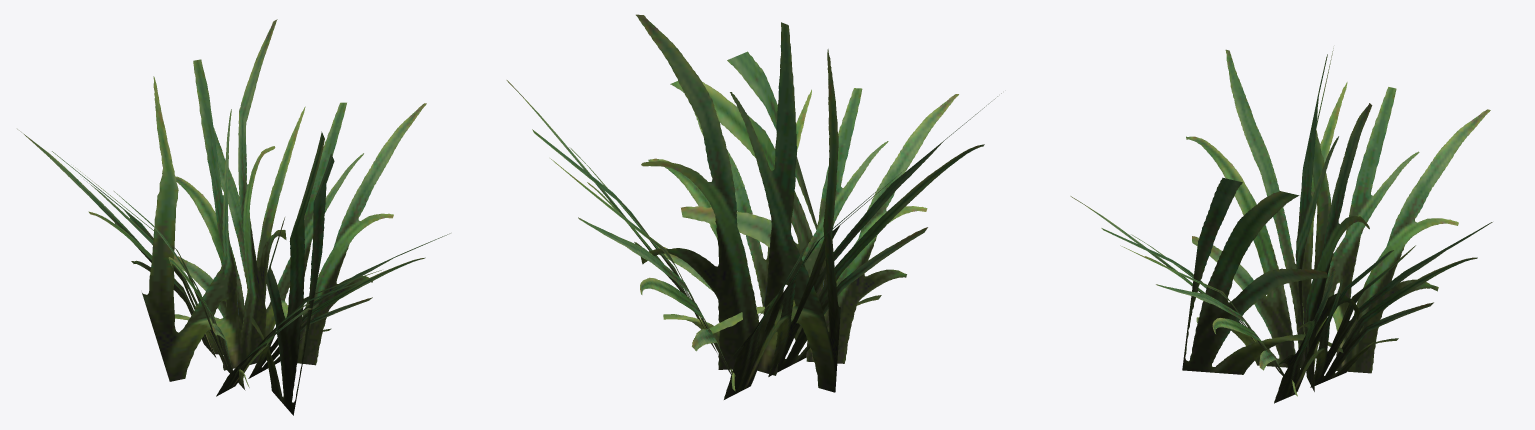
The model's file is ss_cao_1.FBX.
The picture shows the model from 3 angles, left to right: view 1: azimuth 30°, elevation 25°; view 2: azimuth 150°, elevation 25°; view 3: azimuth 270°, elevation 25°; orthographic projection. The views are drawn at different scales.
Visible parts, largest first — view 1: ss_cao_1; view 2: ss_cao_1; view 3: ss_cao_1.
Part boxes in pixels (<box>): ss_cao_1: <box>17,19,450,415</box>; ss_cao_1: <box>506,14,1001,399</box>; ss_cao_1: <box>1070,48,1492,403</box>.
Bounding box in the file's own units: 125 × 101 × 132.
